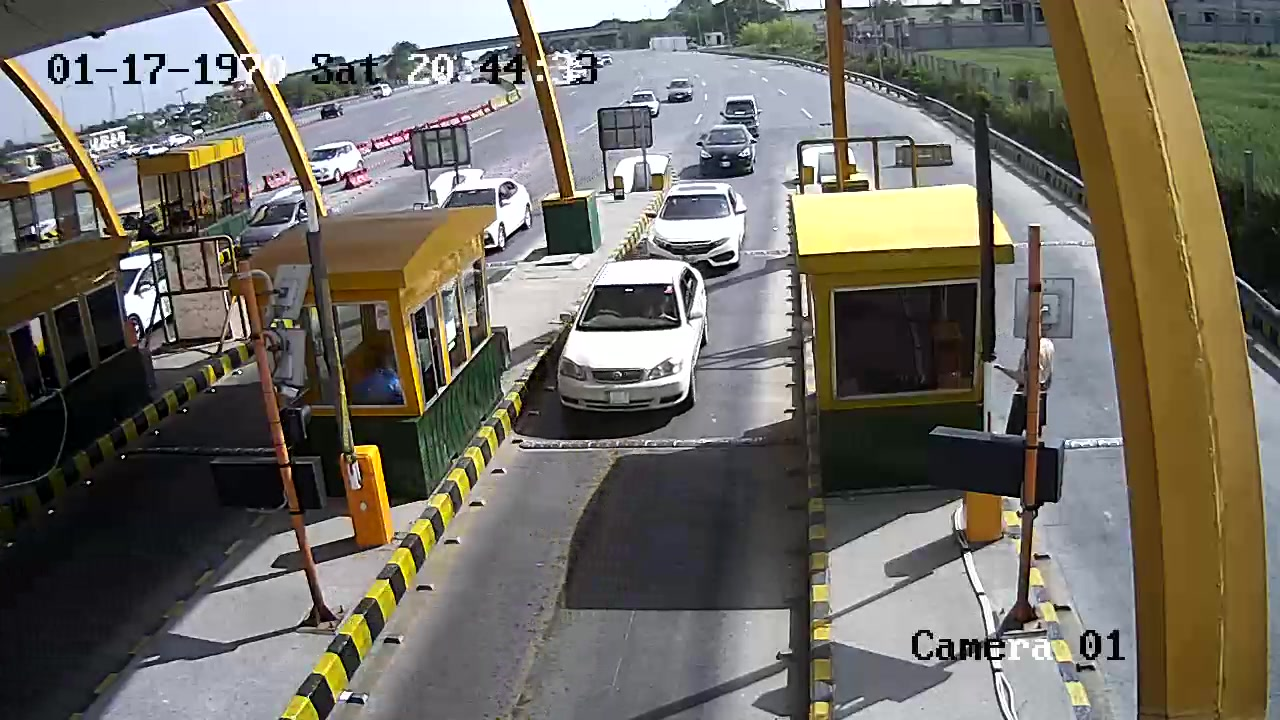F1: (550, 258, 713, 420), (643, 180, 752, 262)
